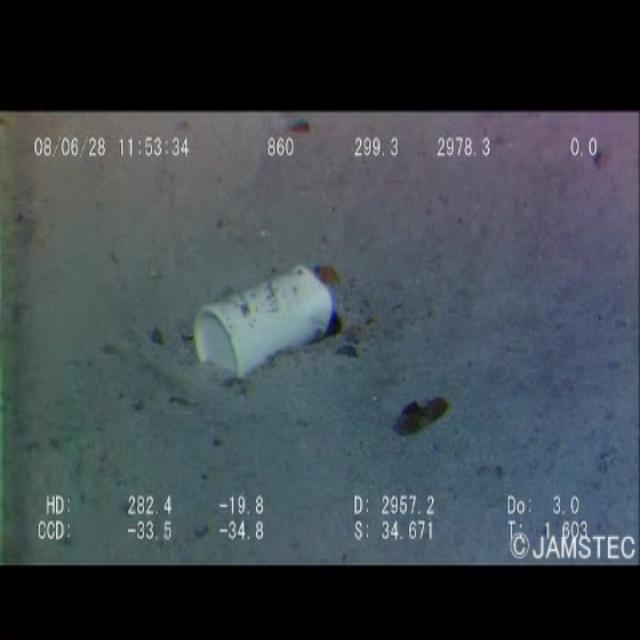Metal: (163, 259, 372, 403)
